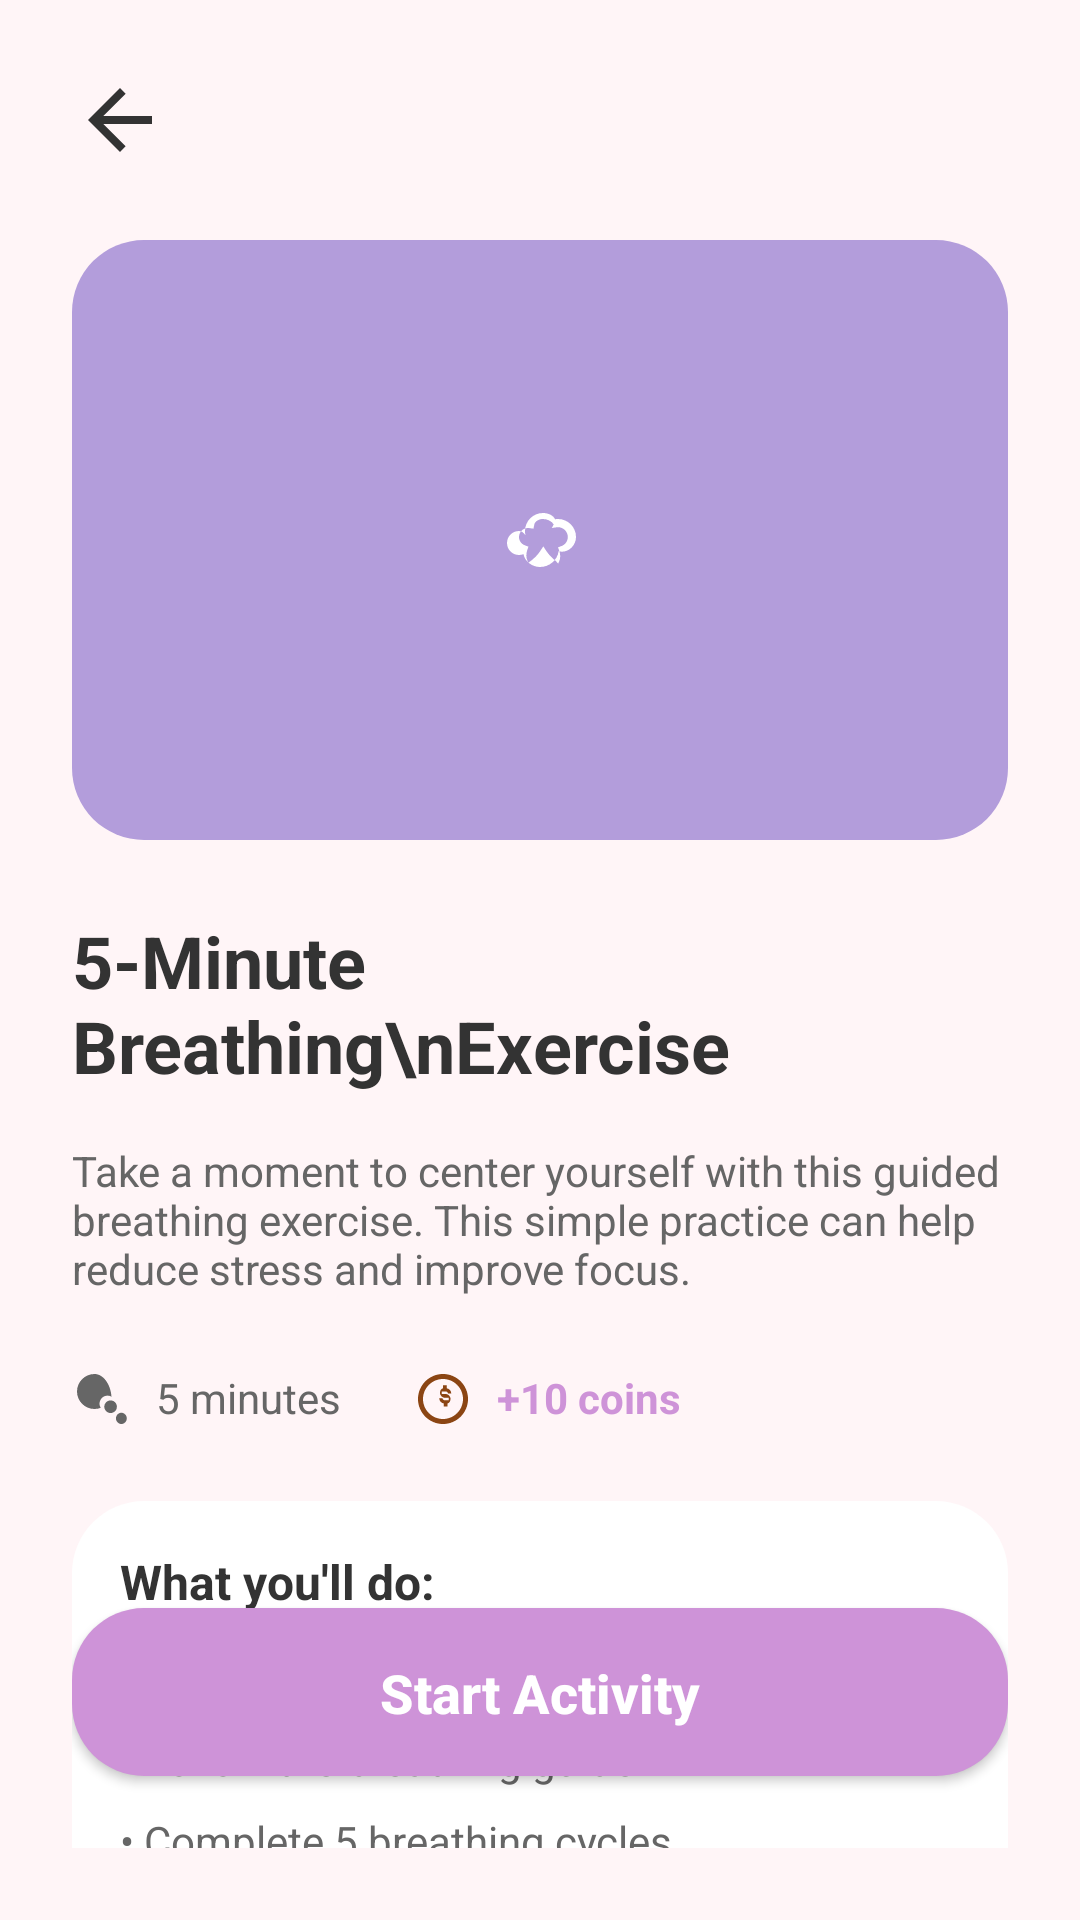

Screen size 1080px×1920px. Icon name, then its box in pixels as (x1, y1, x2, y2):
arrow back: (88, 88, 152, 152)
